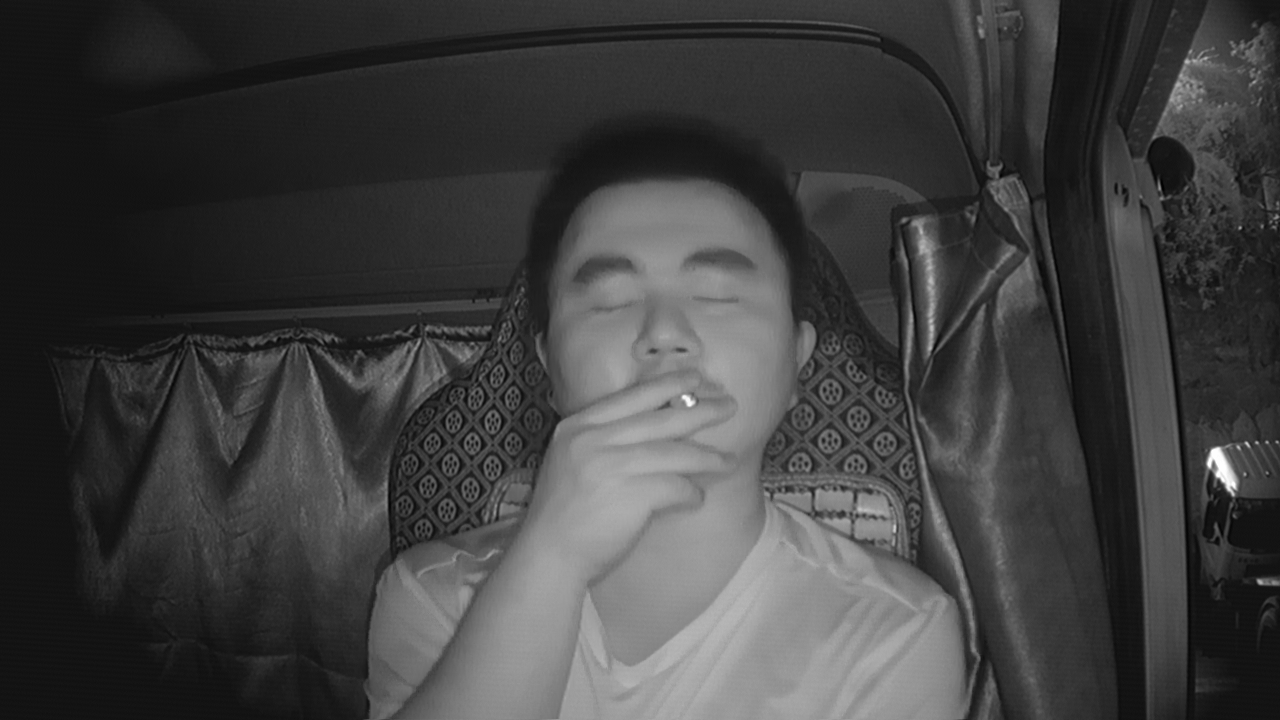hand: (596, 362, 739, 525)
